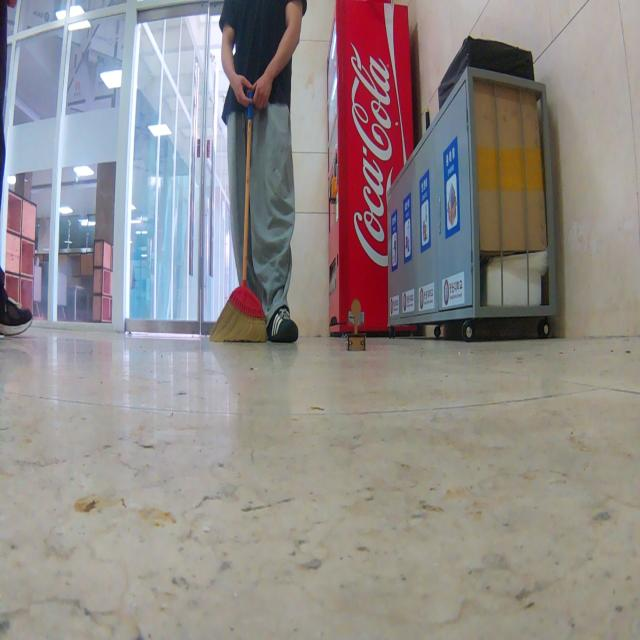target: (346, 297, 366, 351)
